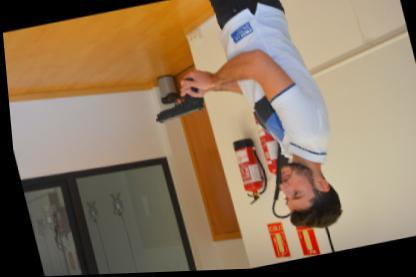pistol: (146, 76, 206, 124)
